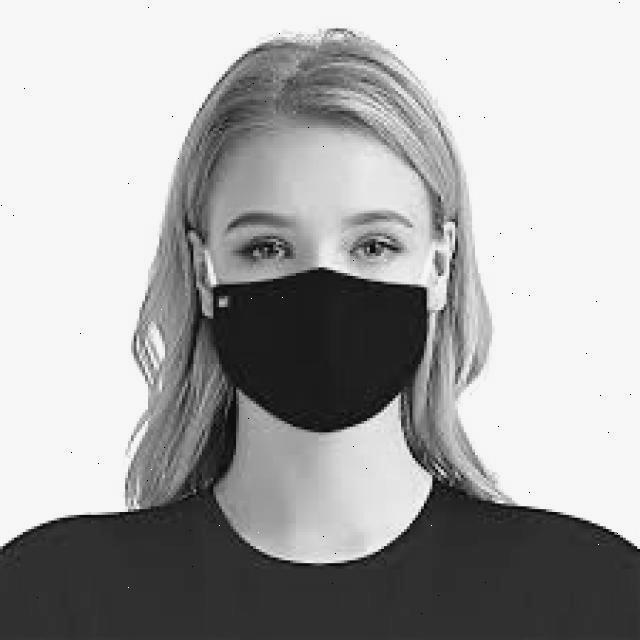fake: (211, 264, 439, 444)
real: (210, 122, 436, 443)
